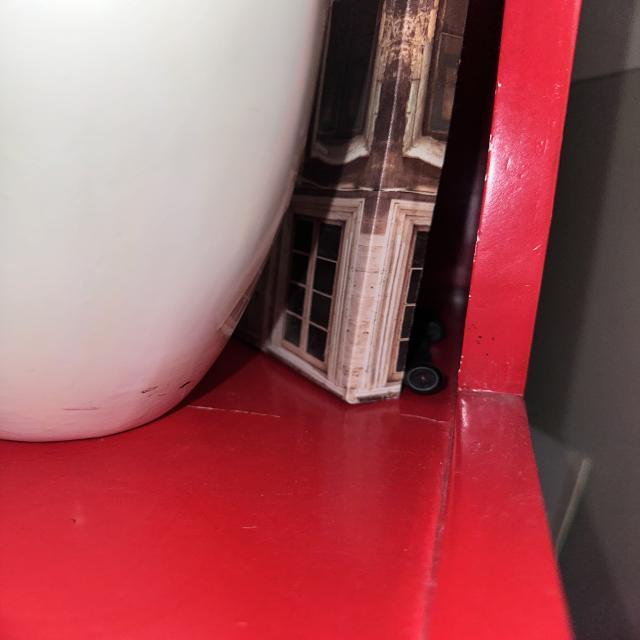hidden camera: (405, 367, 441, 392)
